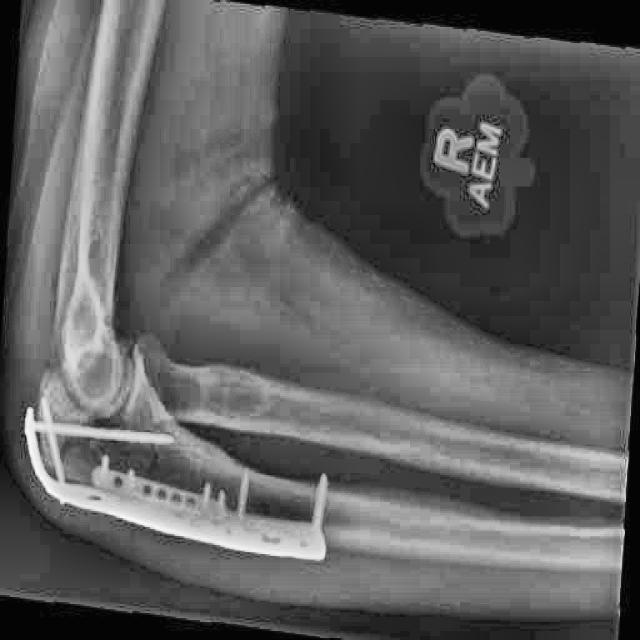elbow positive: (32, 392, 174, 531)
